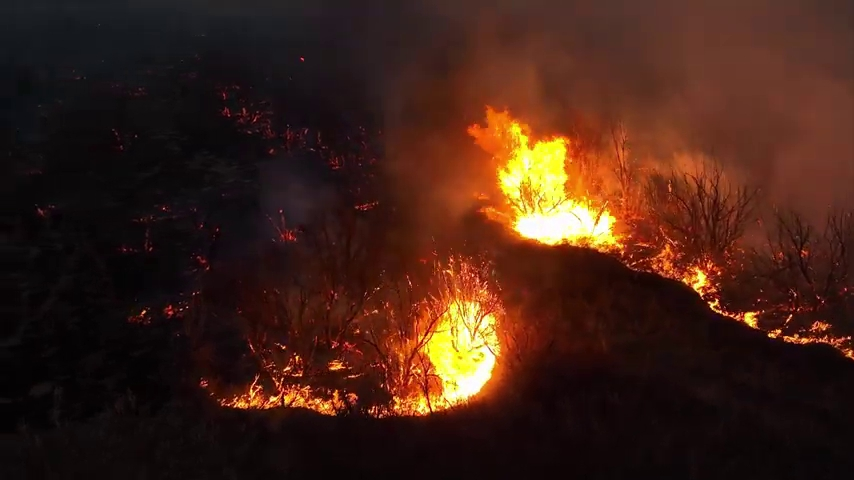forest_fire: (469, 107, 623, 251), (417, 259, 503, 406), (403, 331, 497, 413), (680, 264, 758, 328), (218, 376, 342, 413), (766, 322, 853, 357)
